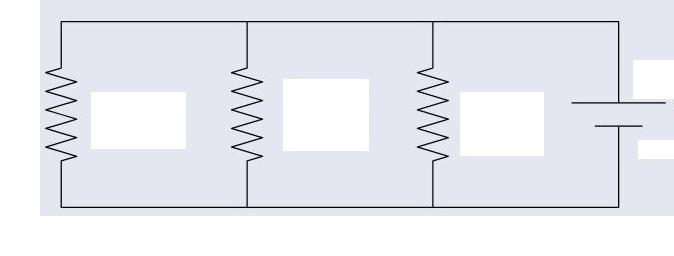resistor: (397, 44, 460, 182), (32, 49, 90, 184), (215, 49, 273, 174)
